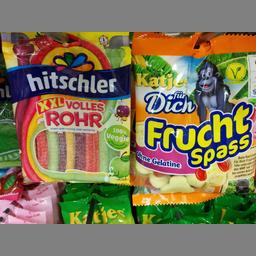candy: (130, 31, 255, 202), (1, 31, 129, 183)
